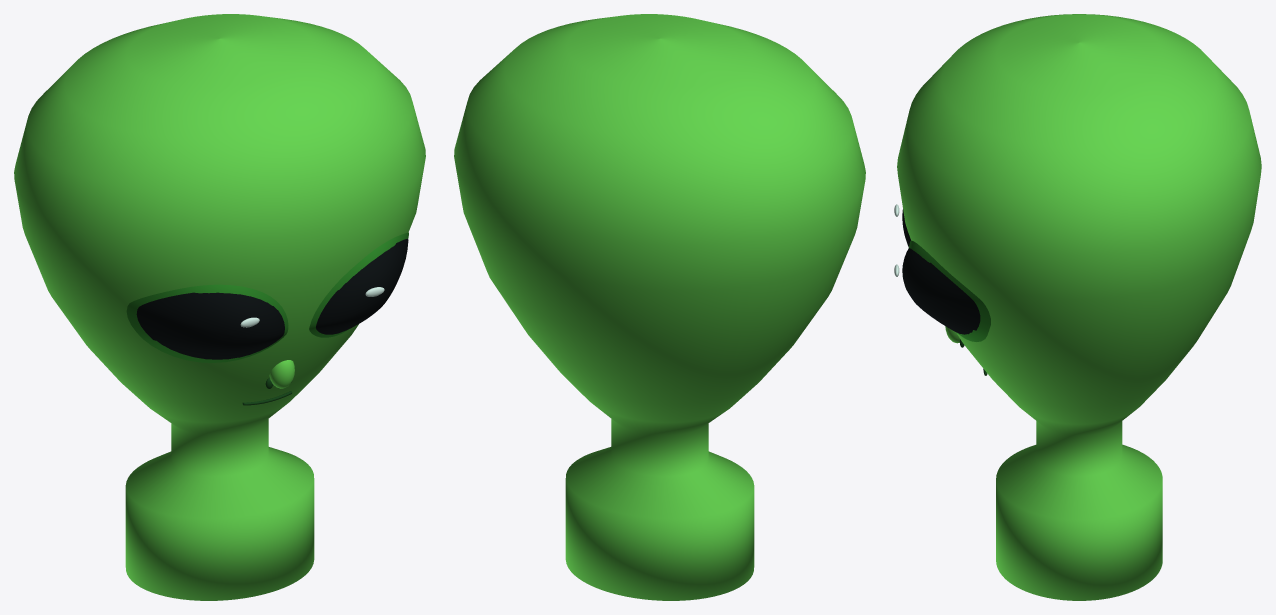
The model's file is AlienHead.glb.
The picture shows the model from 3 angles, left to right: view 1: azimuth 30°, elevation 25°; view 2: azimuth 150°, elevation 25°; view 3: azimuth 270°, elevation 25°; orthographic projection.
Parts seen in each view (by area): view 1: AlienHead; view 2: AlienHead; view 3: AlienHead.
Boxes of the visible parts, x1,y1,x2,y2 form: AlienHead: (14,14,425,600); AlienHead: (454,14,865,600); AlienHead: (894,14,1261,600).
Size of the model in its own units: 0.796 by 1.09 by 0.6979.
